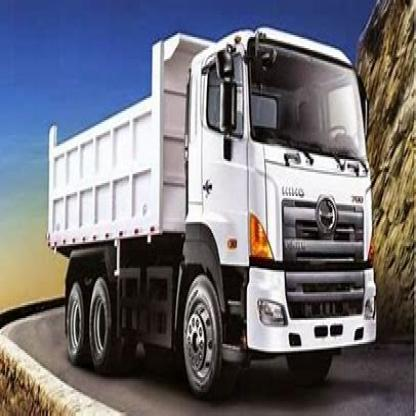dump_truck: (43, 24, 387, 390)
